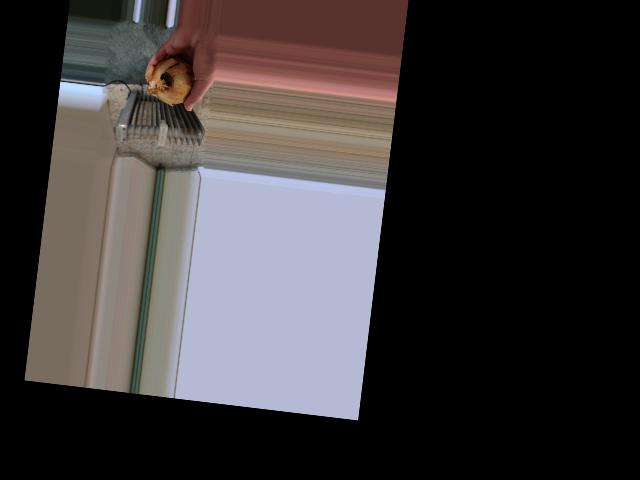onion: (148, 46, 199, 108)
